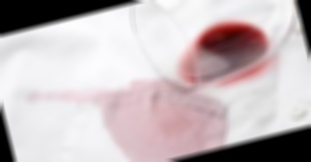wine: (87, 62, 231, 162), (33, 65, 121, 125)
